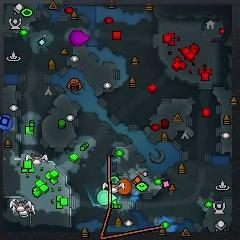p1: (0, 113, 14, 132)
p2: (96, 190, 117, 204)
p3: (70, 31, 91, 46)
p5: (114, 177, 131, 194)
